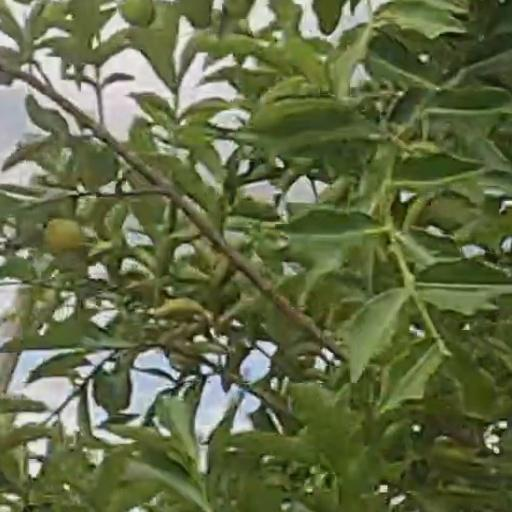acerola_verde: (44, 220, 79, 250), (118, 1, 158, 26)
